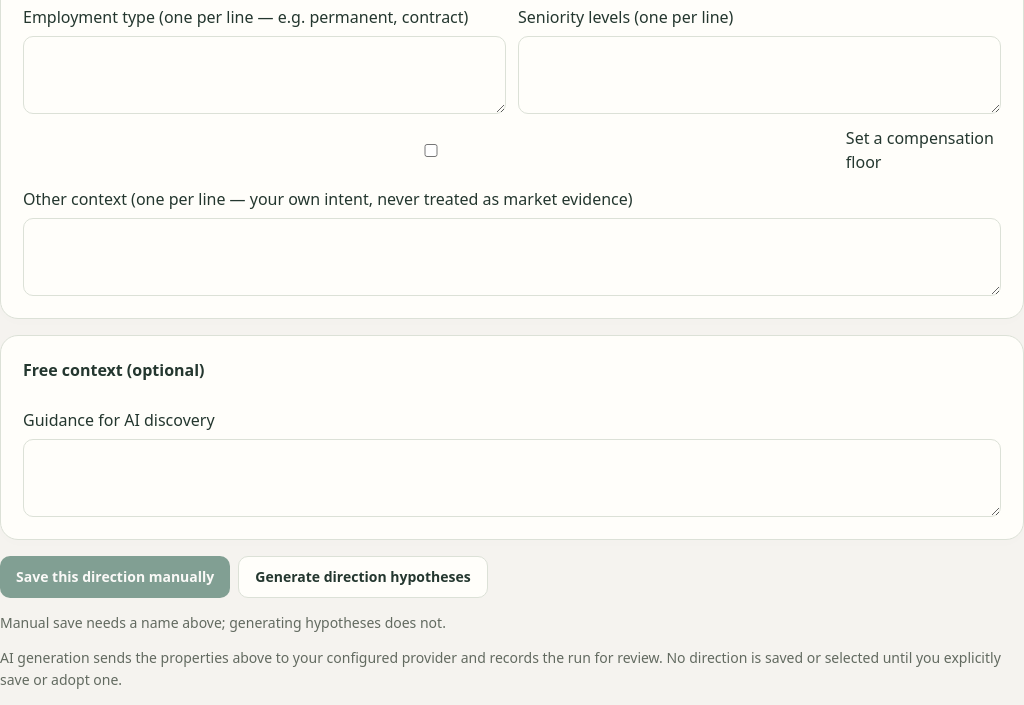
Career Direction builder — AI discovery › generates hypotheses and renders them unordered, with no rank/score language
(page scrolled)
Click the button "Generate direction hypotheses" at {"x": 363, "y": 577}, box [238, 556, 488, 598]
(page scrolled)
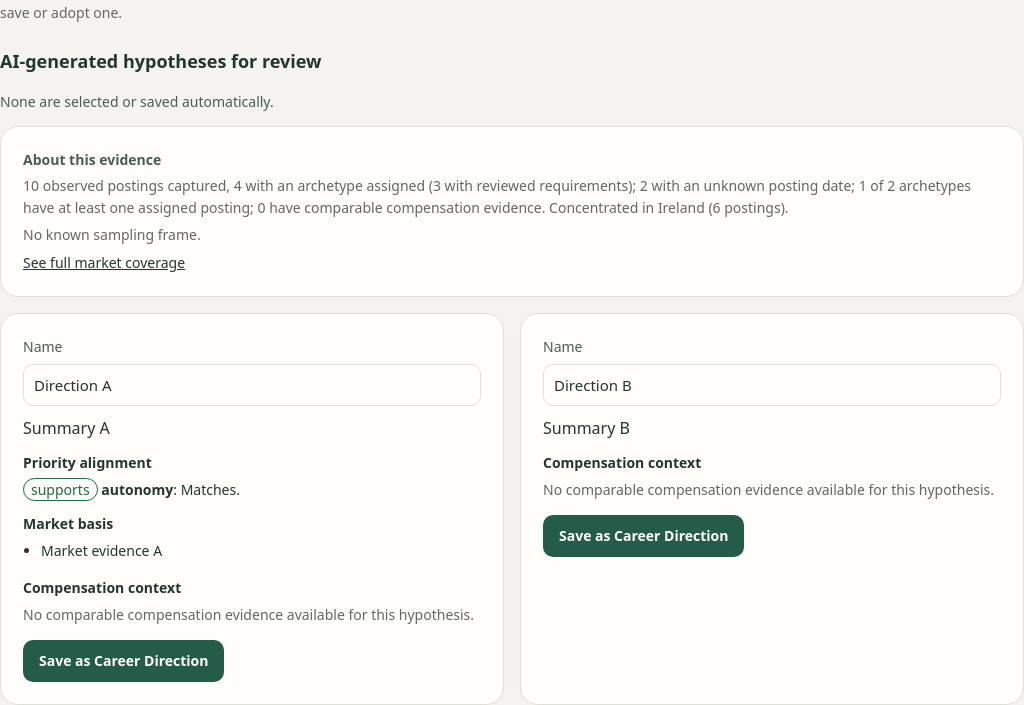
Expected: the 1st field showing "Direction A" is shown, [23, 364, 481, 406]
Expected: the 2nd field showing "Direction B" is shown, [543, 364, 1001, 406]
Expected: the list item "Market evidence A" is shown, [41, 541, 162, 560]
